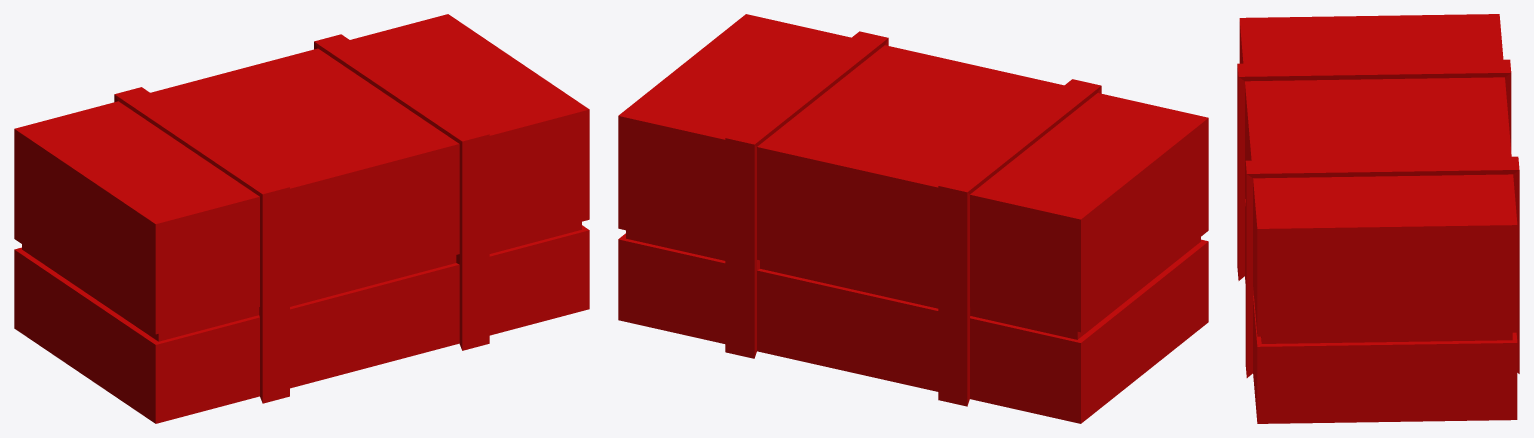
Rendered from carneval_chest_GEO.fbx.
3 renders of one model, left to right at view 1: azimuth 30°, elevation 25°; view 2: azimuth 150°, elevation 25°; view 3: azimuth 270°, elevation 25°, orthographic. The views are drawn at different scales.
Visible parts, largest first — view 1: chest_geo_mb_01; view 2: chest_geo_mb_01; view 3: chest_geo_mb_01.
Part boxes in pixels (<box>): chest_geo_mb_01: <box>14,14,589,423</box>; chest_geo_mb_01: <box>618,14,1208,423</box>; chest_geo_mb_01: <box>1237,14,1519,423</box>.
Bounding box in the file's own units: 118 × 52.45 × 65.58.
